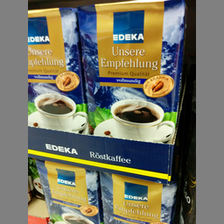coffee: (78, 1, 184, 142), (28, 6, 88, 132)
